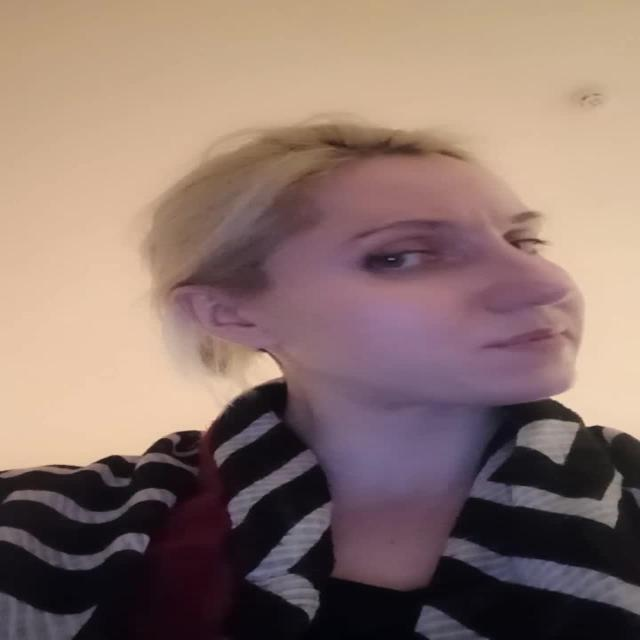earlobe: (170, 286, 280, 351)
